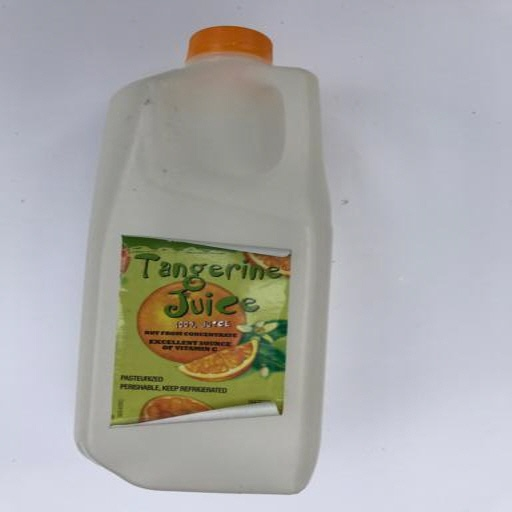Plastic_1: (79, 26, 325, 495)
